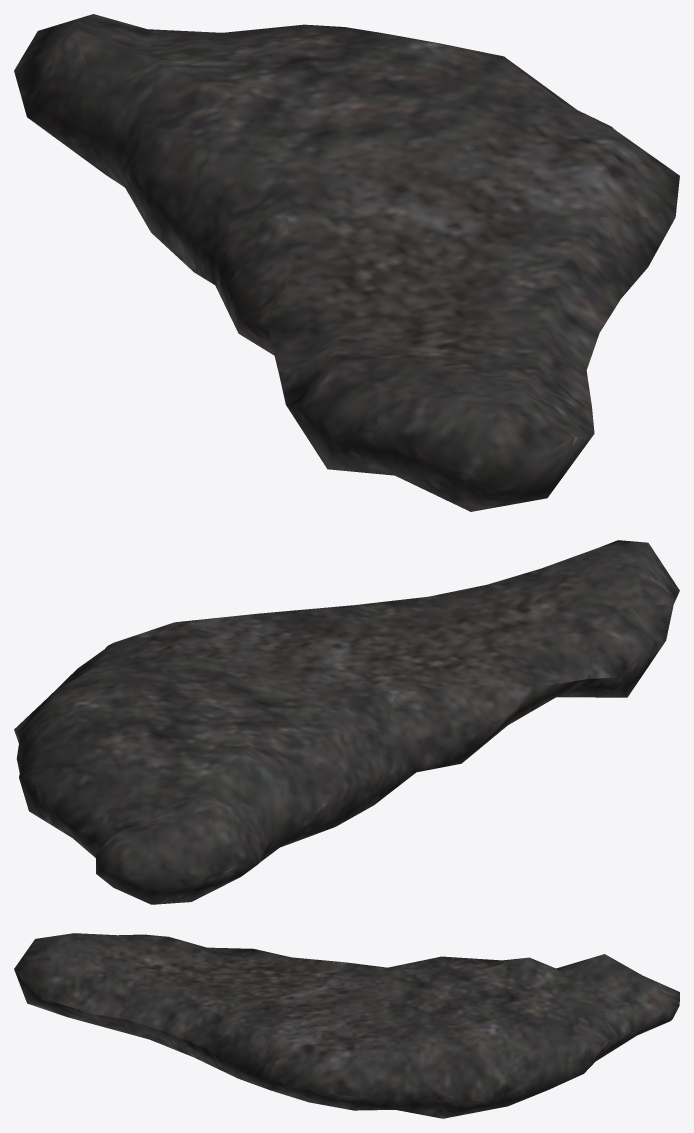
File: rock 10.glb
3 views of the same model, one above another, from view 1: azimuth 30°, elevation 25°; view 2: azimuth 150°, elevation 25°; view 3: azimuth 270°, elevation 25° (orthographic). The views are drawn at different scales.
Parts seen in each view (by area): view 1: AR10; view 2: AR10; view 3: AR10.
Boxes of the visible parts, x1,y1,x2,y2 form: AR10: [14, 14, 679, 511]; AR10: [14, 540, 679, 904]; AR10: [14, 933, 679, 1118].
Size of the model in its own units: 10.91 by 2.71 by 20.32.
Materials: 1 (1 with a texture image).
